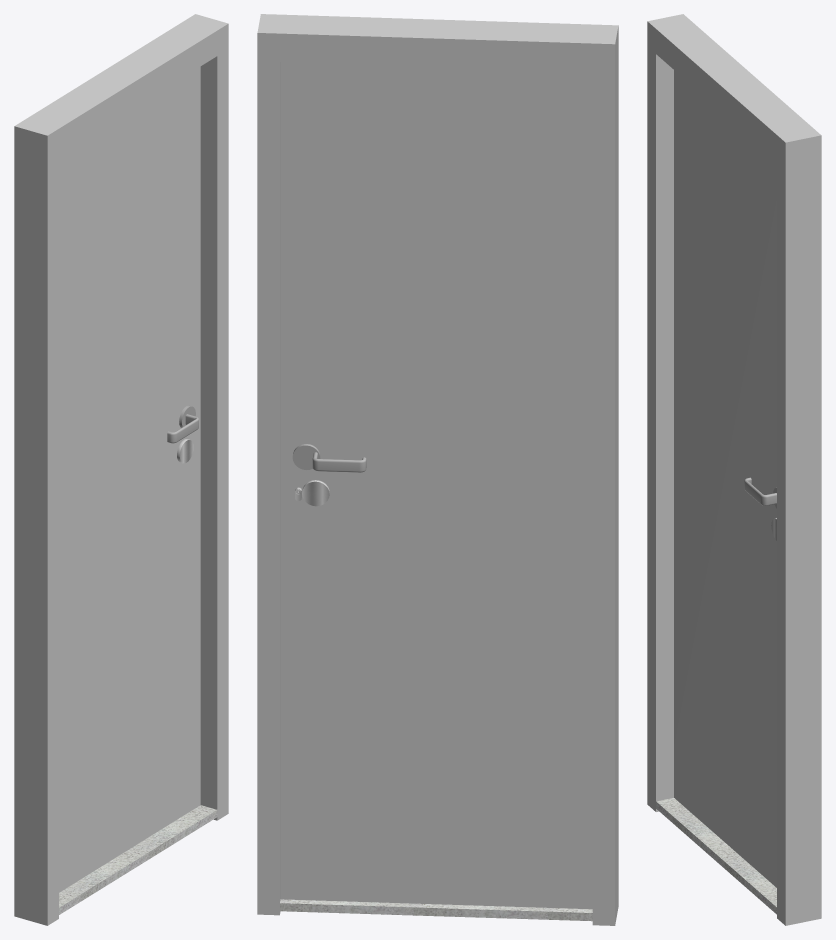
The model's file is PortaBanheiro2.fbx.
3 views of the same model, side by side, from view 1: azimuth 30°, elevation 25°; view 2: azimuth 150°, elevation 25°; view 3: azimuth 270°, elevation 25° (orthographic). The views are drawn at different scales.
Parts seen in each view (by area): view 1: group_.075, group_.074, group_ 33.001, group_.077; view 2: group_.075, group_.074, group_ 33.001, group_.079; view 3: group_.075, group_.074, group_ 33.001, group_.077.
Boxes of the visible parts, box(x1,y1,x2,y2) form: group_.075: box(59, 66, 200, 892); group_.074: box(14, 14, 228, 925); group_ 33.001: box(59, 805, 217, 914); group_.077: box(167, 414, 198, 443); group_.075: box(280, 62, 592, 909); group_.074: box(257, 14, 618, 925); group_ 33.001: box(280, 899, 592, 921); group_.079: box(312, 452, 366, 472); group_.075: box(674, 70, 776, 887); group_.074: box(647, 14, 821, 925); group_ 33.001: box(656, 798, 776, 914); group_.077: box(744, 477, 776, 505).
Size of the model in its own units: 76.42 by 217 by 43.7.
Materials: 4 (2 with a texture image).
